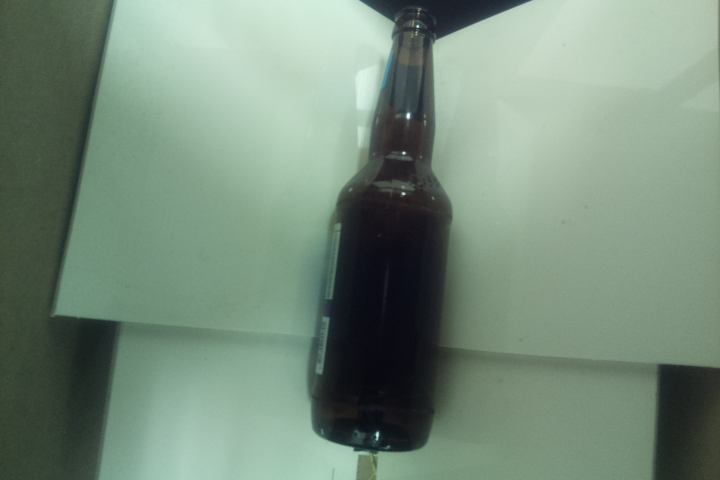makju: (304, 1, 455, 452)
